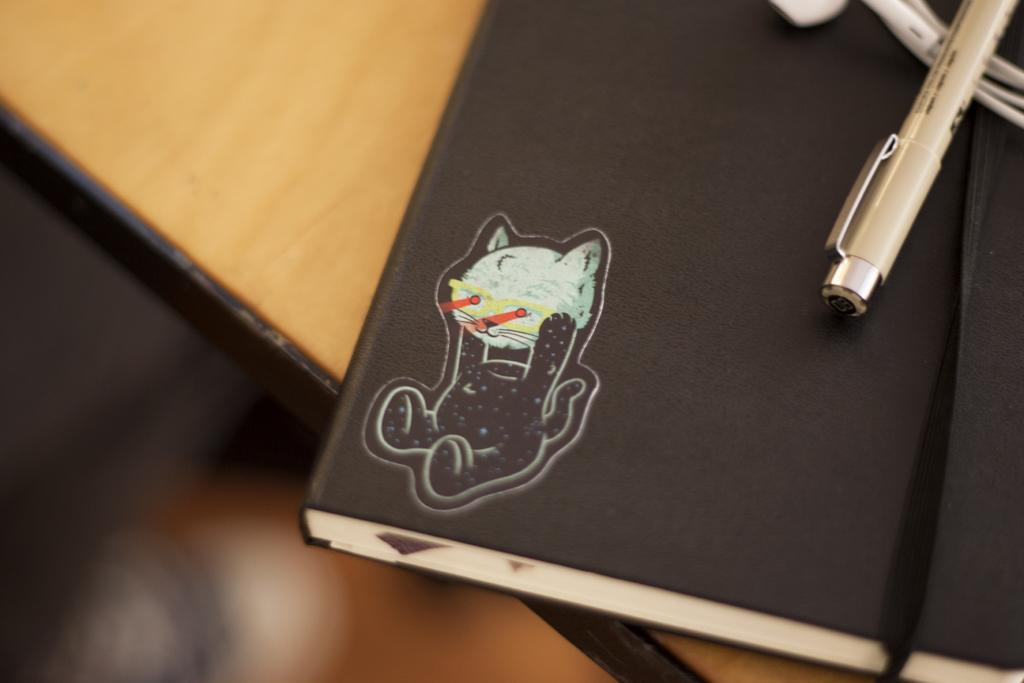pen: (820, 0, 1023, 324)
